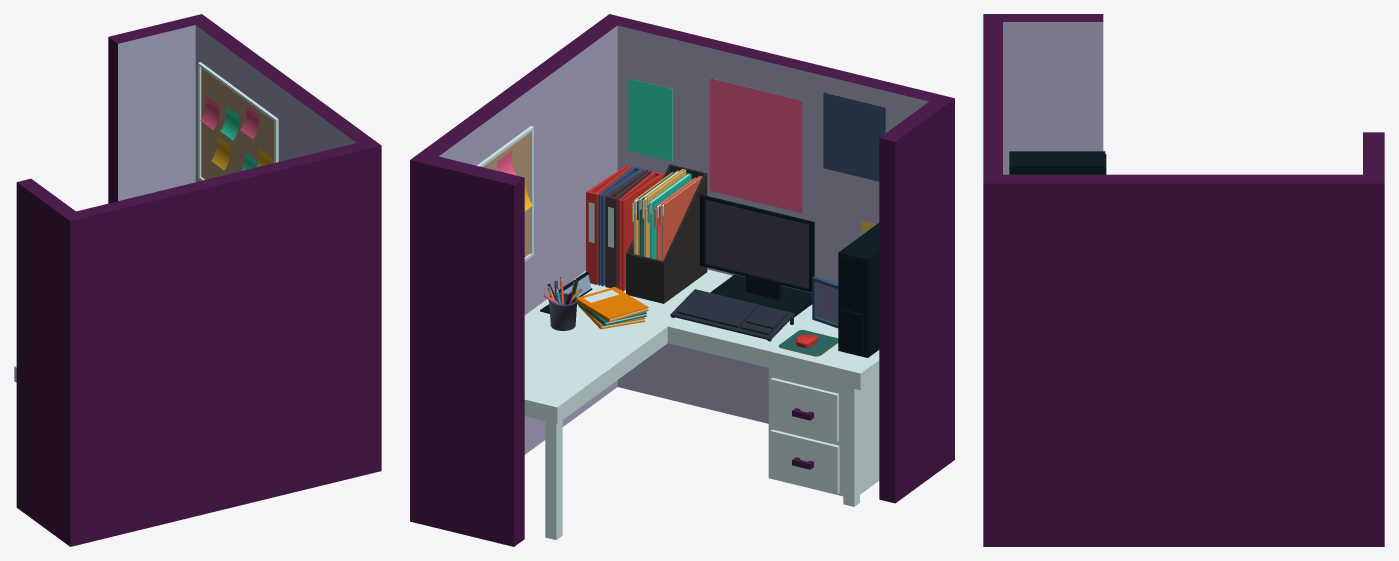
Rendered from Cubicle02.fbx.
The picture shows the model from 3 angles, left to right: view 1: azimuth 30°, elevation 25°; view 2: azimuth 150°, elevation 25°; view 3: azimuth 270°, elevation 25°; orthographic projection. The views are drawn at different scales.
Visible parts, largest first — view 1: Cubicle, CorkBoard.001; view 2: Cubicle, CubicleDesk, PosterBase.002, Desktop, Desktop Hardrive.001, FolderHolder.001, PosterBase.003, Keyboard, PosterBase.001, CorkBoard.001, Binder.004, Binder.005 (+9 smaller); view 3: Cubicle, Desktop Hardrive.001.
Part boxes in pixels (x1,y1,x2,y2): Cubicle: (16,14,381,546); CorkBoard.001: (198,62,278,180); Cubicle: (410,14,954,546); CubicleDesk: (524,269,879,539); PosterBase.002: (709,78,802,213); Desktop: (700,194,814,317); Desktop Hardrive.001: (838,223,879,357); FolderHolder.001: (626,164,707,303); PosterBase.003: (823,92,885,181); Keyboard: (670,289,794,341); PosterBase.001: (628,78,672,161); CorkBoard.001: (476,126,533,261); Binder.004: (605,169,651,288); Binder.005: (618,171,664,291); Cubicle: (983,14,1384,546); Desktop Hardrive.001: (1009,151,1106,174).
Bounding box in the file's own units: 99967 × 99967 × 99967.
Materials: 34 (34 with a texture image).
